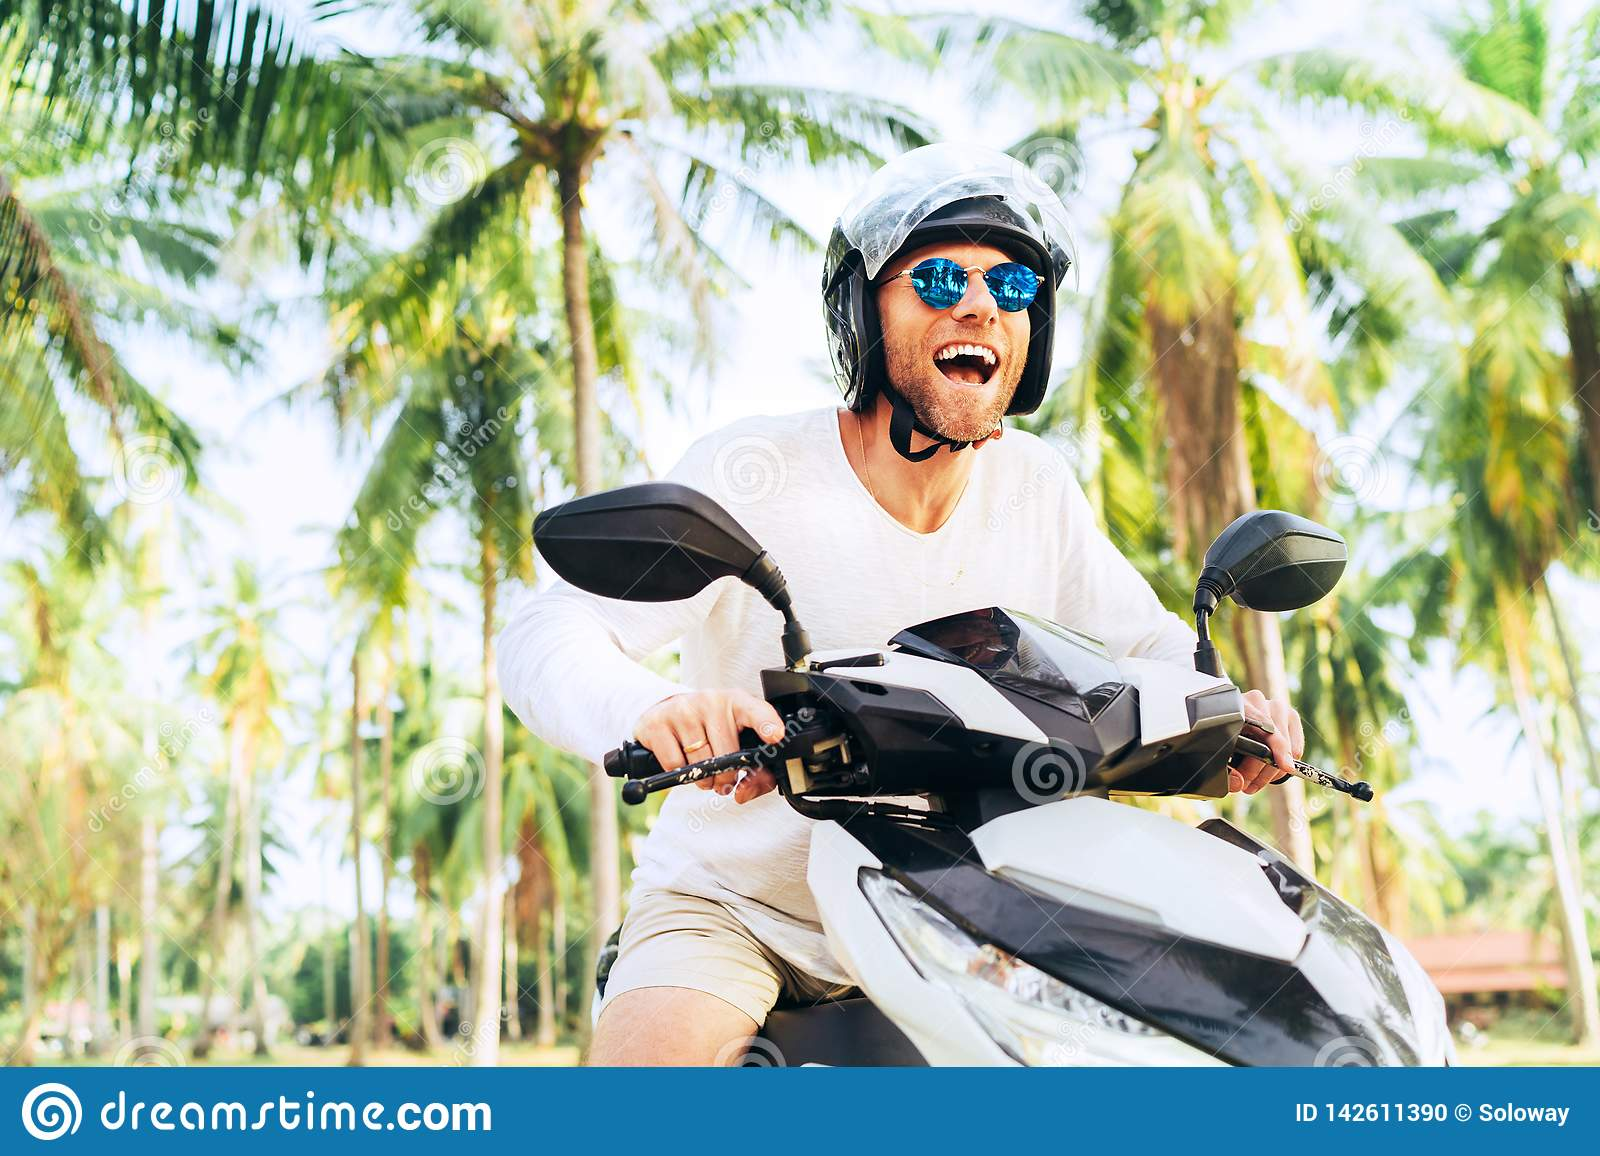helmet: (811, 142, 1084, 377)
